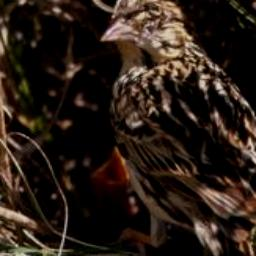Sparrow: (96, 0, 256, 256)
